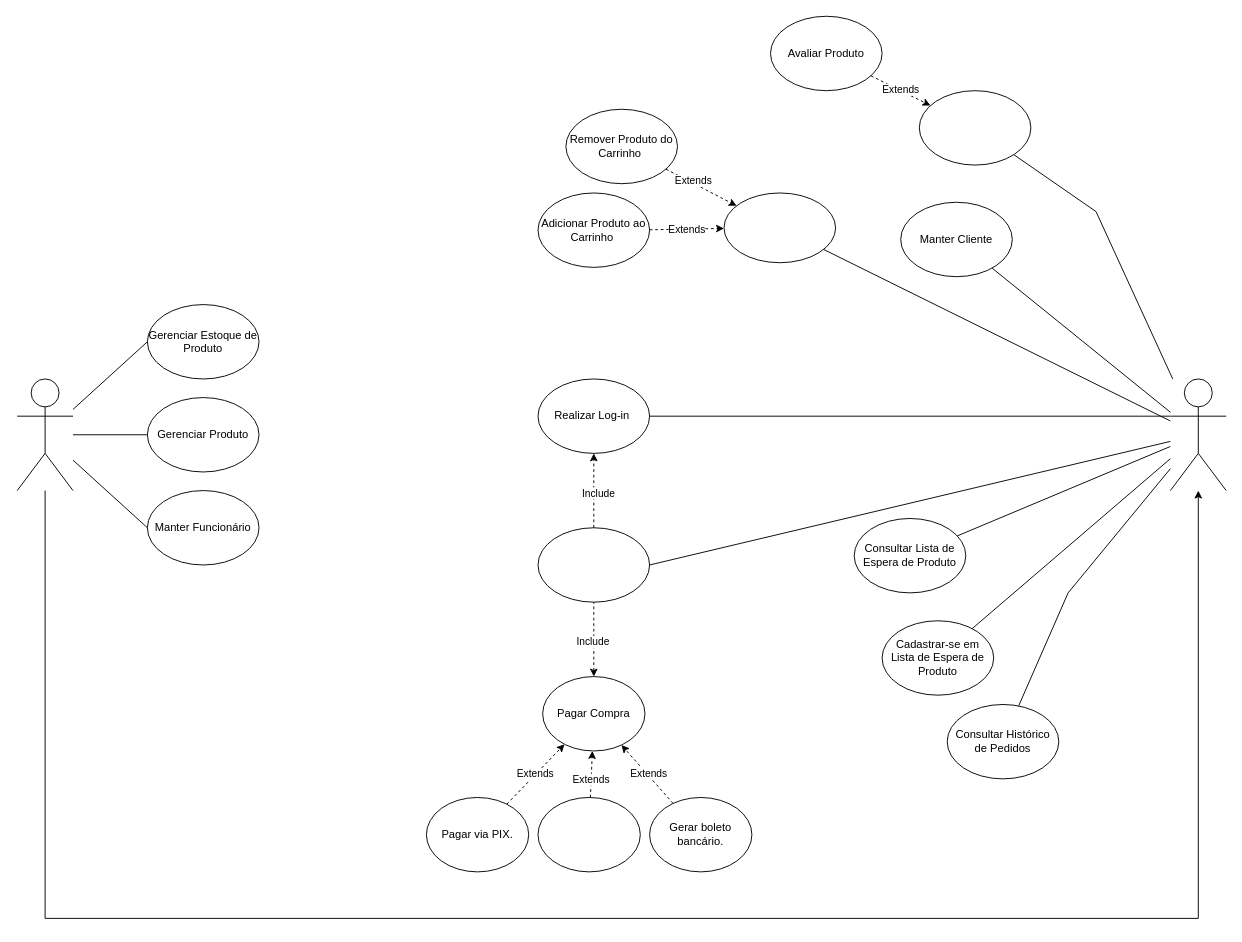
The diagram is 1242 pixels wide and 942 high, and some of its shapes have lost their labels. Each missing label, with the centre of its shape:
Cliente: point (1197, 434)
Consultar Pedido: point (974, 127)
Consultar Produto: point (779, 227)
Funcionário: point (44, 434)
Pagar via cartão de crédito/débito: point (588, 834)
Realizar Compra: point (593, 564)
